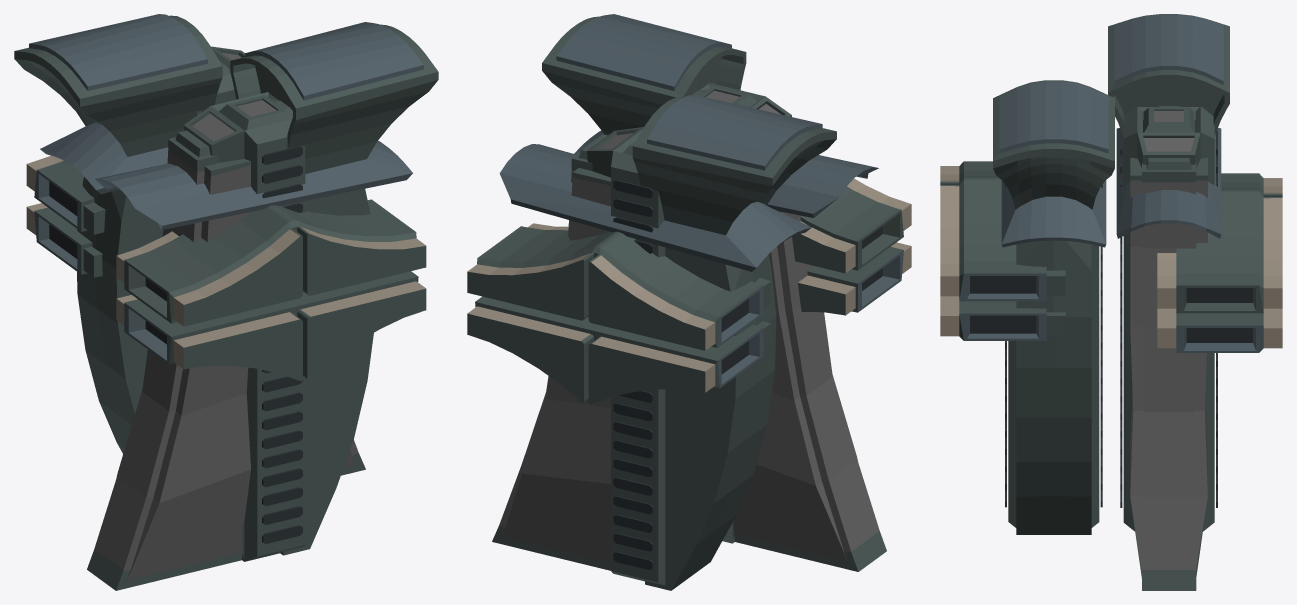
File: building_74.fbx
The picture shows the model from 3 angles, left to right: view 1: azimuth 30°, elevation 25°; view 2: azimuth 150°, elevation 25°; view 3: azimuth 270°, elevation 25°; orthographic projection. The views are drawn at different scales.
Visible parts, largest first — view 1: building_74; view 2: building_74; view 3: building_74.
Part boxes in pixels (box(x1,y1,x2,y2)): building_74: box(14, 14, 438, 590); building_74: box(467, 14, 911, 590); building_74: box(940, 14, 1282, 590).
Bounding box in the file's own units: 1358 × 1996 × 1386.
